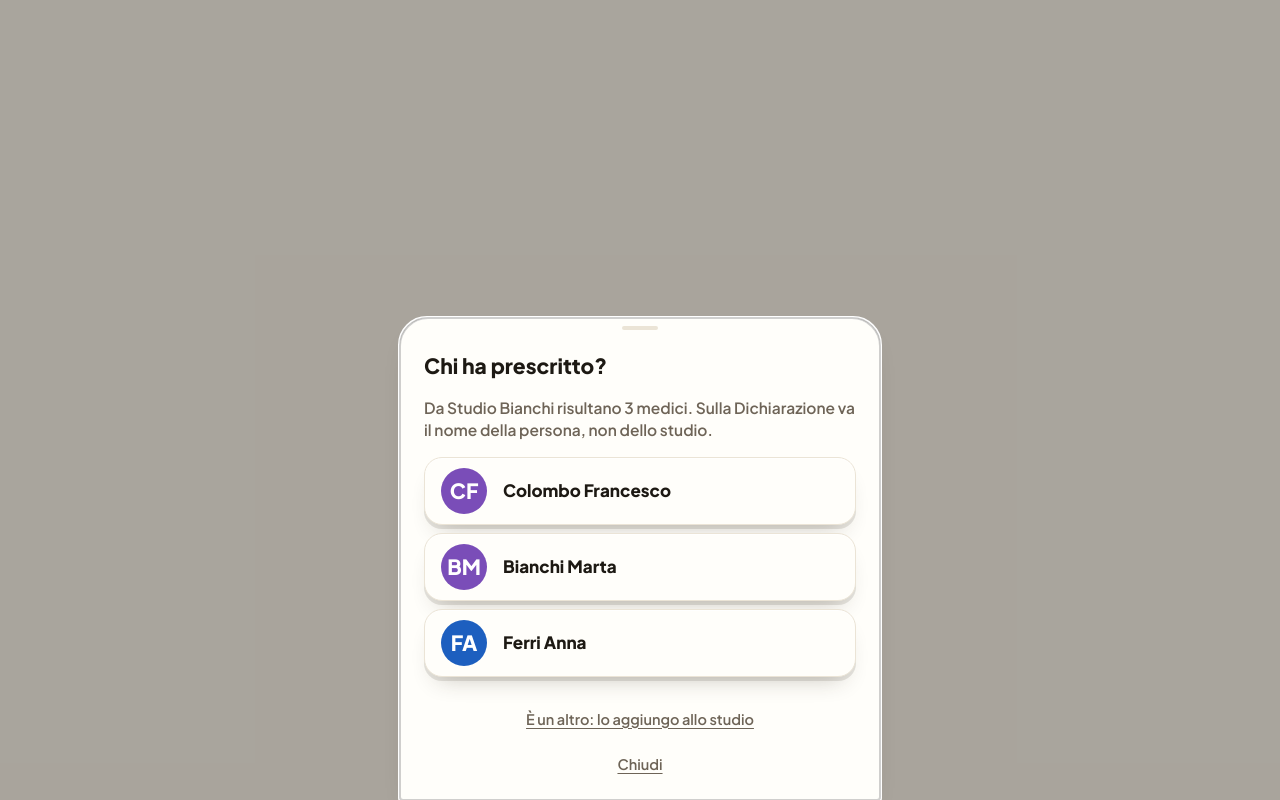
Test case: ChiHaPrescrittoSheet (Task 10, P37/D211) › «È un altro» → submit con nome/cognome vuoti NON chiama fetch, mostra il vincolo
Click the button "È un altro: lo aggiungo allo studio": (640,719) [526,696,754,743]
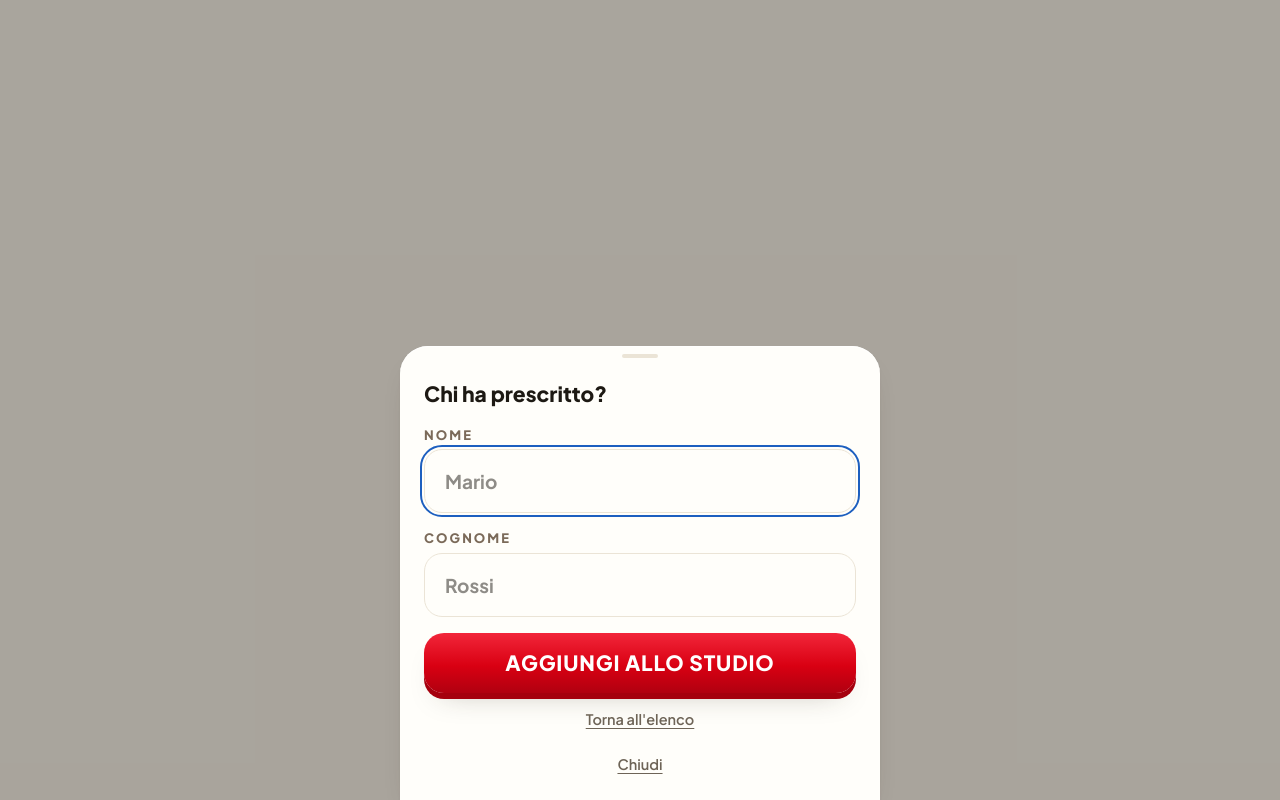
Click the button "Aggiungi allo studio": (640,662) [424,632,856,692]
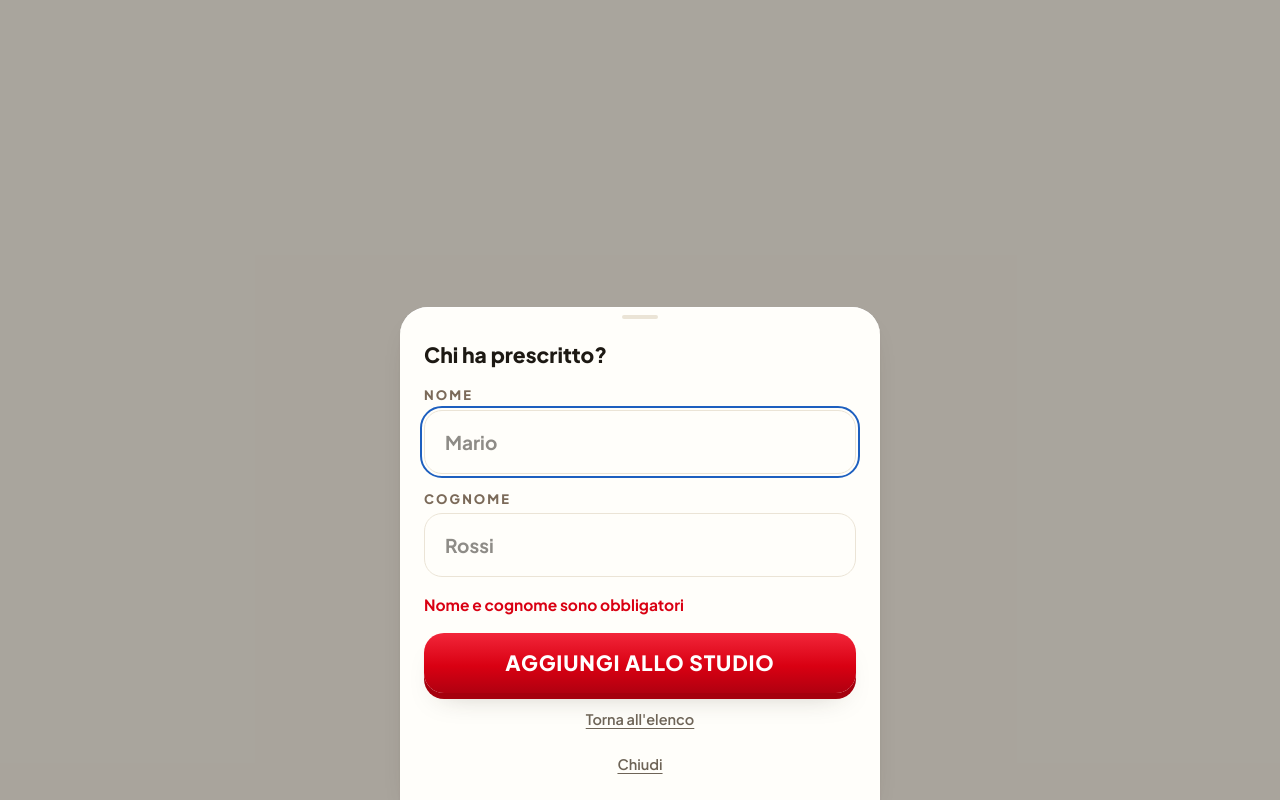
Result: the message reads "Nome e cognome sono obbligatori" at [424,595,684,614]
